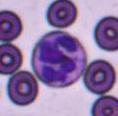N: (31, 30, 87, 88)
